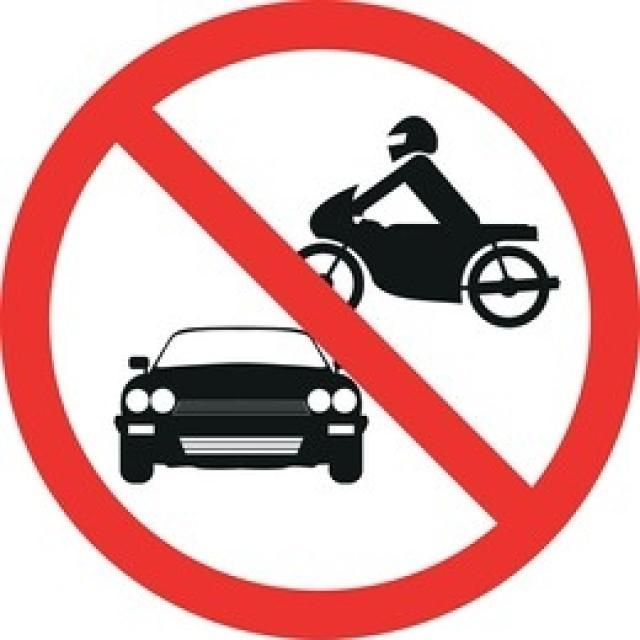all motor vehicle prohibited: (16, 18, 627, 624)
